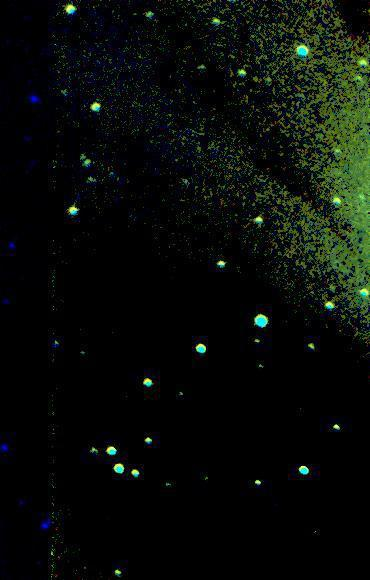star: (242, 66, 272, 96)
